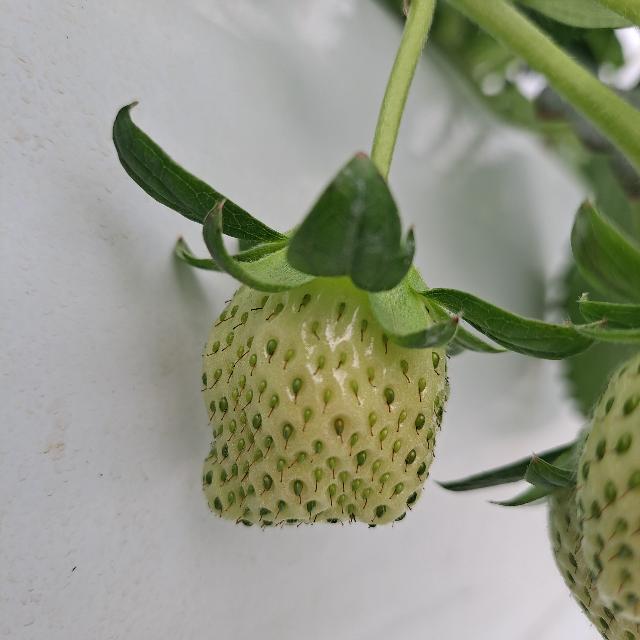Health_25: (201, 284, 449, 526)
